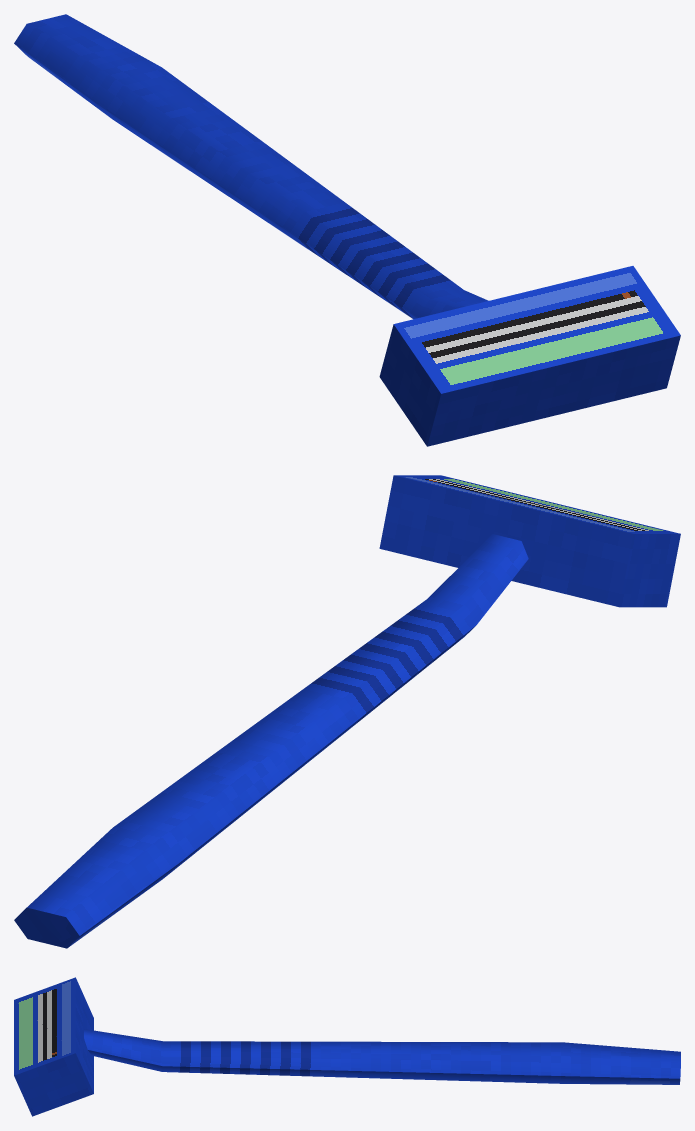
Rendered from SM_Motel_DisposableRazor.glb.
3 views of the same model, one above another, from view 1: azimuth 30°, elevation 25°; view 2: azimuth 150°, elevation 25°; view 3: azimuth 270°, elevation 25° (orthographic). The views are drawn at different scales.
Parts seen in each view (by area): view 1: SM_Motel_DisposableRazor; view 2: SM_Motel_DisposableRazor; view 3: SM_Motel_DisposableRazor.
Part boxes in pixels (left/top/right/bottom): SM_Motel_DisposableRazor: left=14, top=14, right=680, bottom=446; SM_Motel_DisposableRazor: left=14, top=475, right=680, bottom=948; SM_Motel_DisposableRazor: left=14, top=977, right=680, bottom=1116.
Size of what is drawn, in the model's own units: 0.035 by 0.0137 by 0.1301.
Materials: 3 (3 with a texture image).
